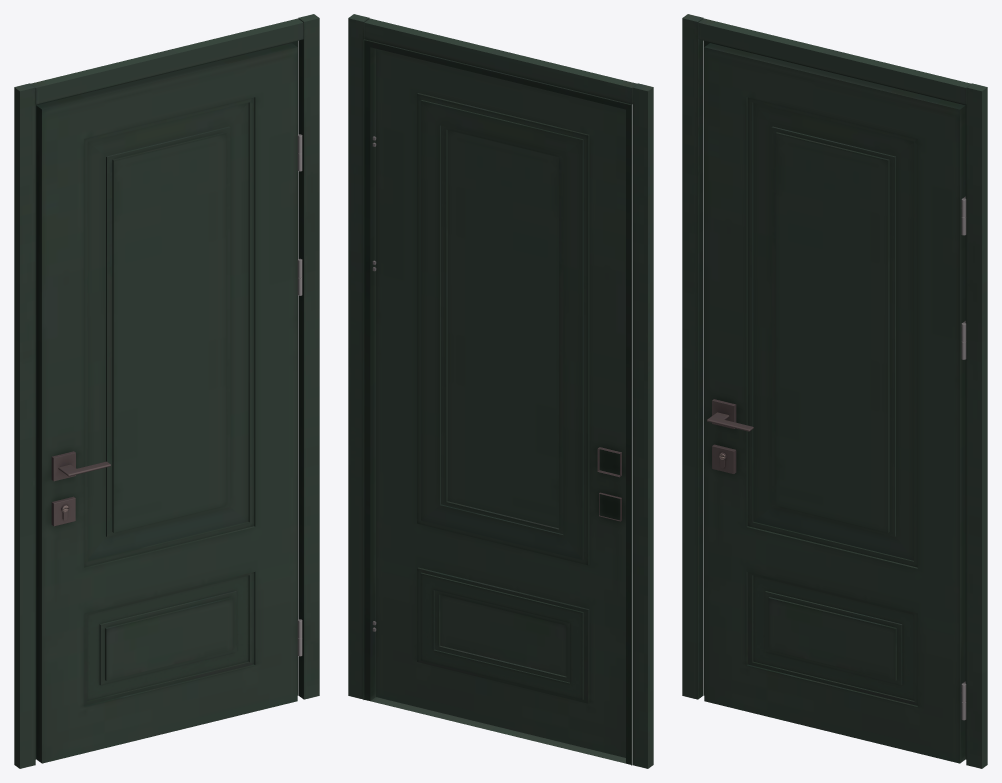
The model's file is door showcase.glb.
3 views of the same model, side by side, from view 1: azimuth 30°, elevation 25°; view 2: azimuth 150°, elevation 25°; view 3: azimuth 330°, elevation 25° (orthographic).
Visible parts, largest first — view 1: Door body_low; view 2: Door body_low; view 3: Door body_low.
Part boxes in pixels (x1=…): Door body_low: x1=14, y1=14, x2=319, y2=768; Door body_low: x1=348, y1=14, x2=653, y2=768; Door body_low: x1=682, y1=14, x2=987, y2=768.
Size of the model in its own units: 1.06 by 2.28 by 0.1144.
Materials: 1 (1 with a texture image).
